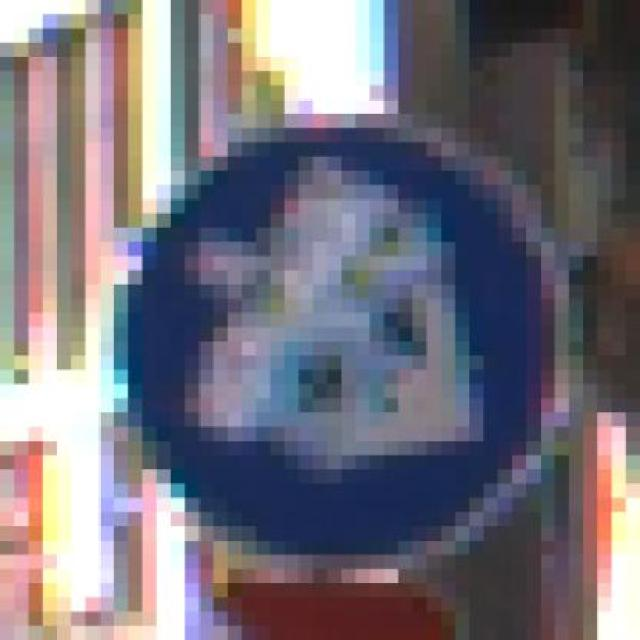Keep-Right: (99, 114, 598, 569)
